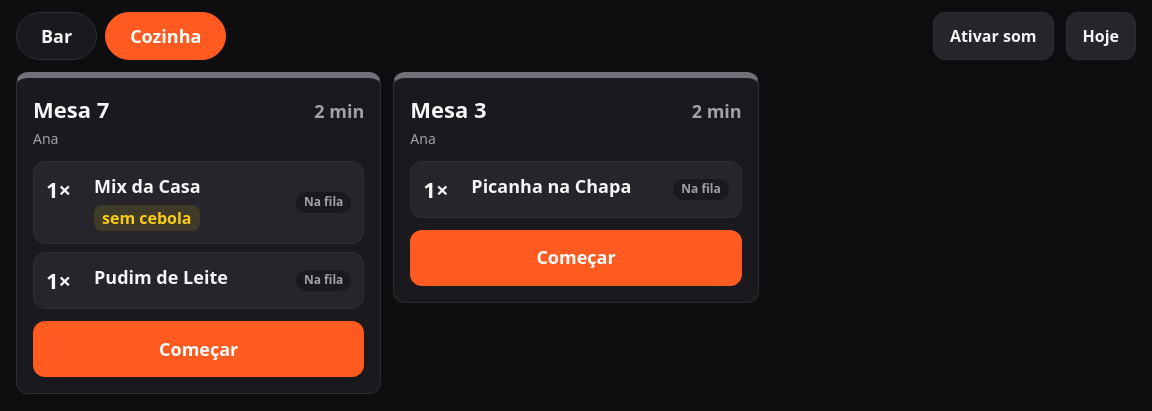
Test case: TelaProducao › pedido novo toca o bipe depois de Ativar som
The width and height of the screenshot is (1152, 411).
Click the button "Ativar som" at (993, 36), box top-left (933, 12), bottom-right (1054, 60)
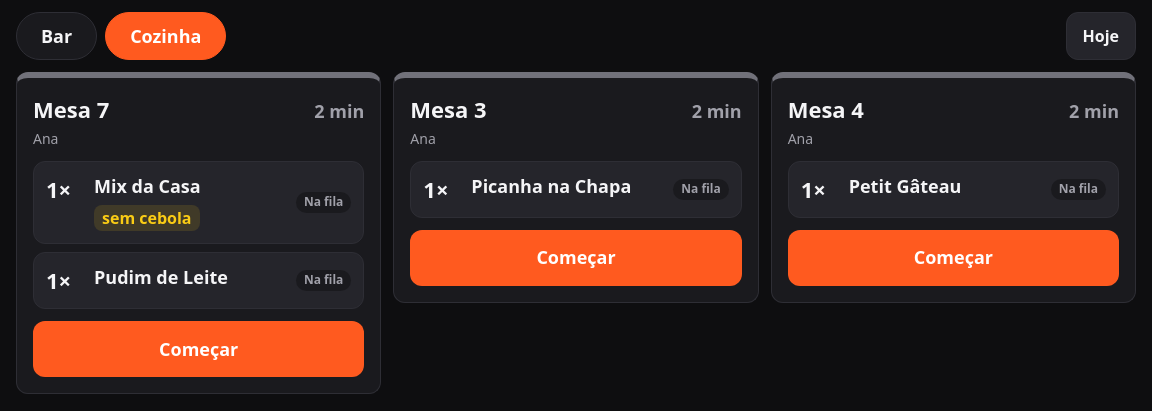
Now the button "Ativar som" is gone
